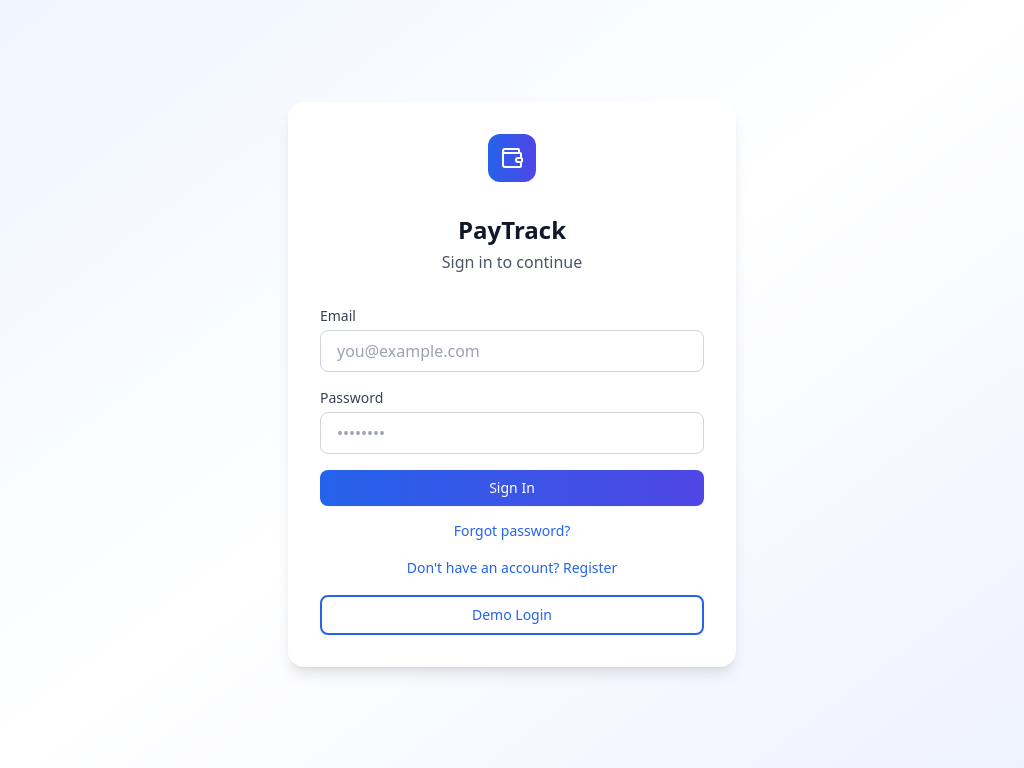
LoginPage — sign-in flow › renders the Demo Login button only on the sign-in screen
The width and height of the screenshot is (1024, 768).
expect the button "Demo Login" is shown: met, box [320,594,704,634]
Click the button "Don't have an account? Register". click: {"x": 512, "y": 568}
box: [320,558,704,578]
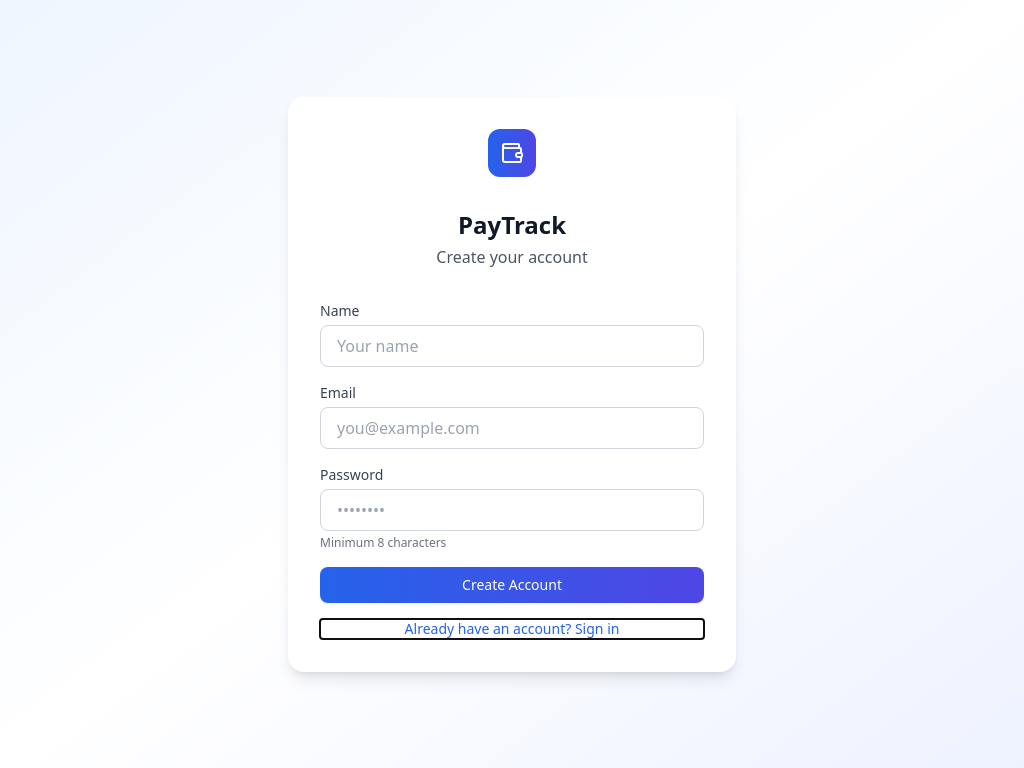
expect the button "Demo Login" is gone: met
